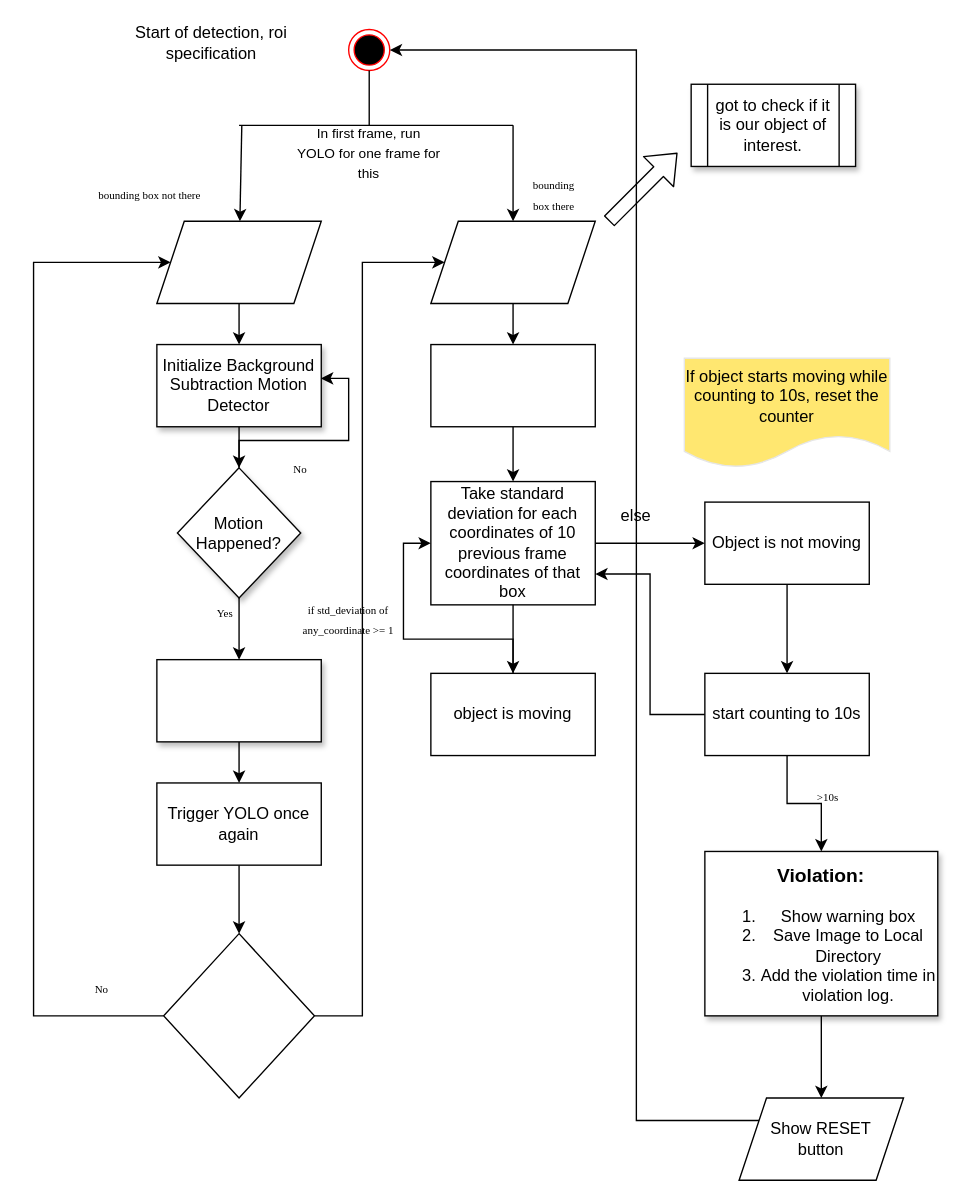
Some shapes in this 970 by 1204 pixel diagram are drawn without their labels. The centre of each missing label's shape, as x and y in pixels:
"if bounding box present" goes at [238,1015].
"pass box to MOSSE object tracker" goes at [512,385].
"Vehicle in frame" goes at [512,261].
"Vehicle NOT in frame" goes at [238,261].
"Wait for 4 second" goes at [239,702].
